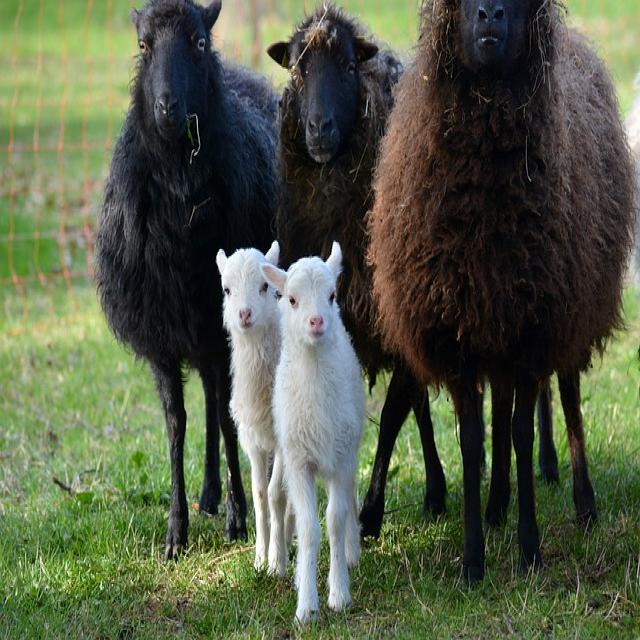goat: (341, 0, 639, 584), (95, 0, 282, 561), (268, 7, 405, 374), (262, 242, 366, 626), (216, 241, 294, 580)
